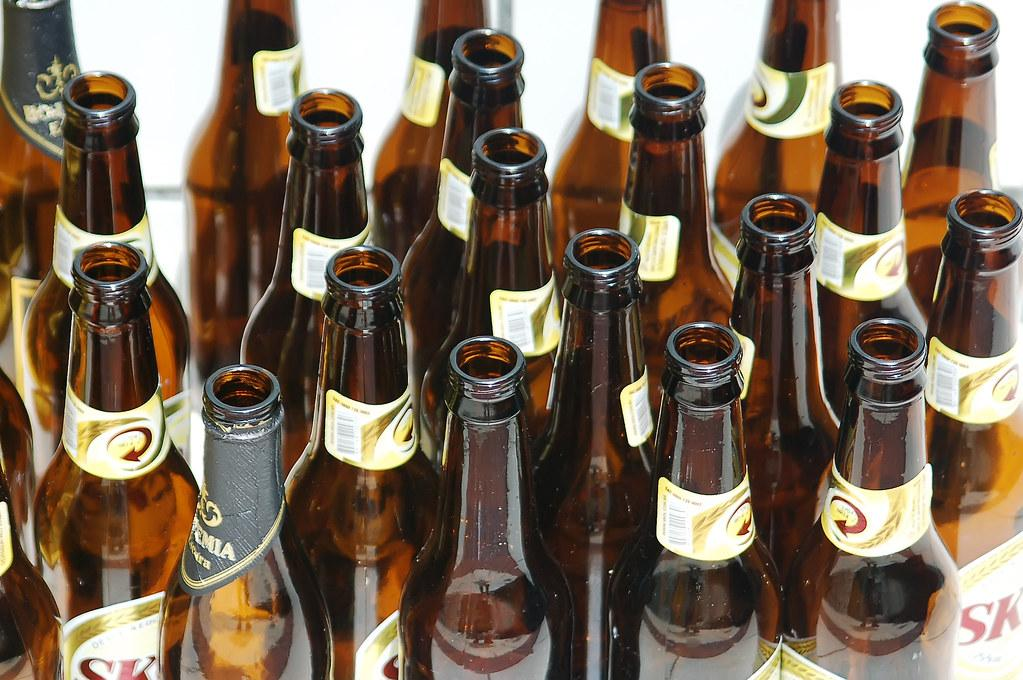bottle: (33, 242, 201, 679), (21, 70, 192, 476), (284, 245, 442, 680), (784, 317, 963, 680), (605, 321, 785, 680), (397, 336, 575, 680), (530, 228, 659, 679), (158, 363, 336, 680), (239, 88, 374, 481), (419, 127, 565, 468), (924, 189, 1023, 679), (183, 1, 306, 385), (728, 193, 843, 581), (616, 62, 740, 417), (813, 79, 930, 416), (550, 1, 670, 290), (713, 1, 843, 248), (368, 1, 488, 264), (901, 2, 1002, 312), (1, 1, 83, 345), (1, 464, 64, 680), (1, 365, 38, 570)
